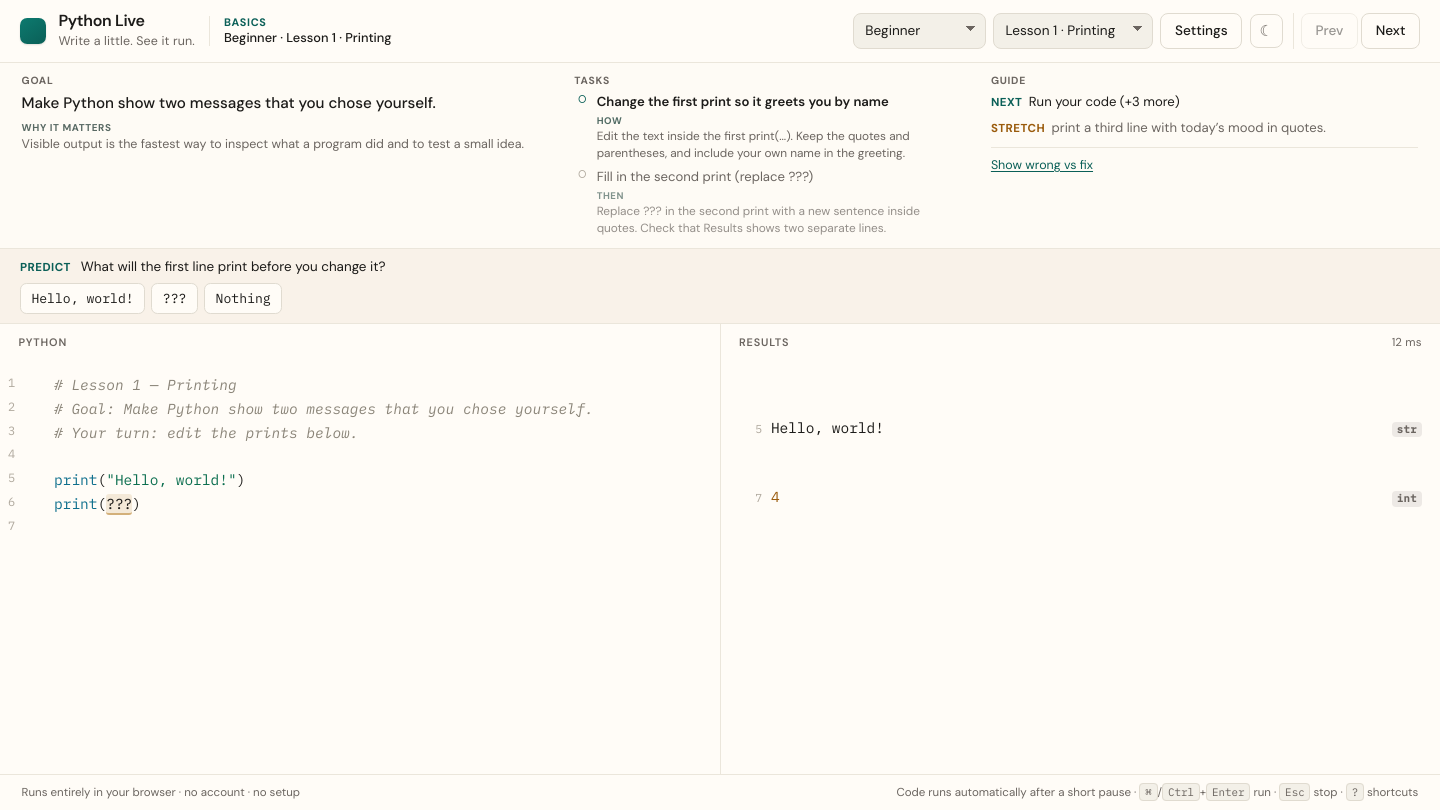
Test case: App beginner flow › exposes settings and chapter context on the first lesson
Check: the element named "current lesson" shows "Basics", box [224,15,266,29]
Check: the element named "lesson goal" shows "Stretch", box [991,121,1045,136]
Click the button with aria-label "open settings" at (1201, 31), box [1160,13,1242,48]
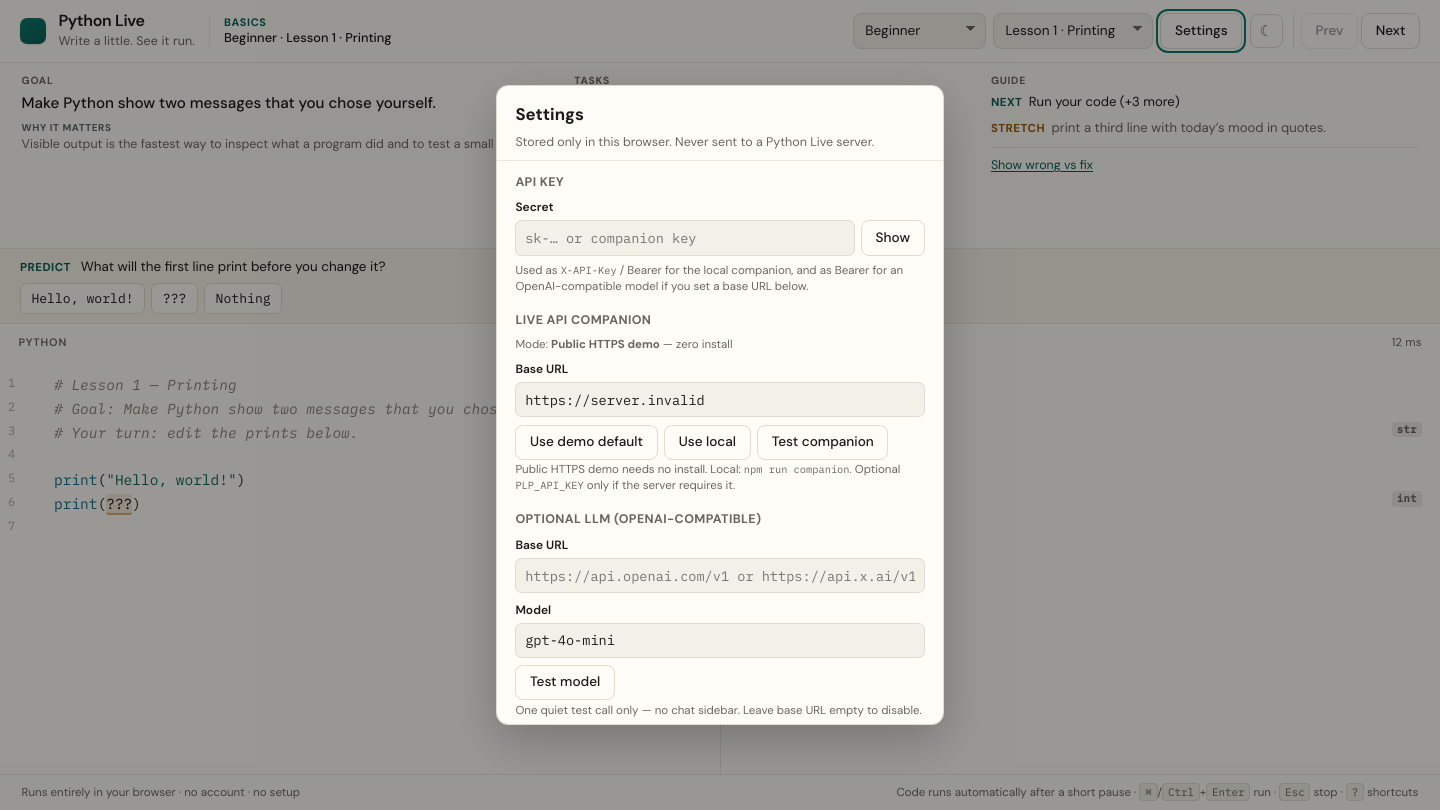
Check: the dialog "Settings" is shown, box [496,85,944,725]
Check: the password field named "api key" is shown, box [515,220,855,256]
